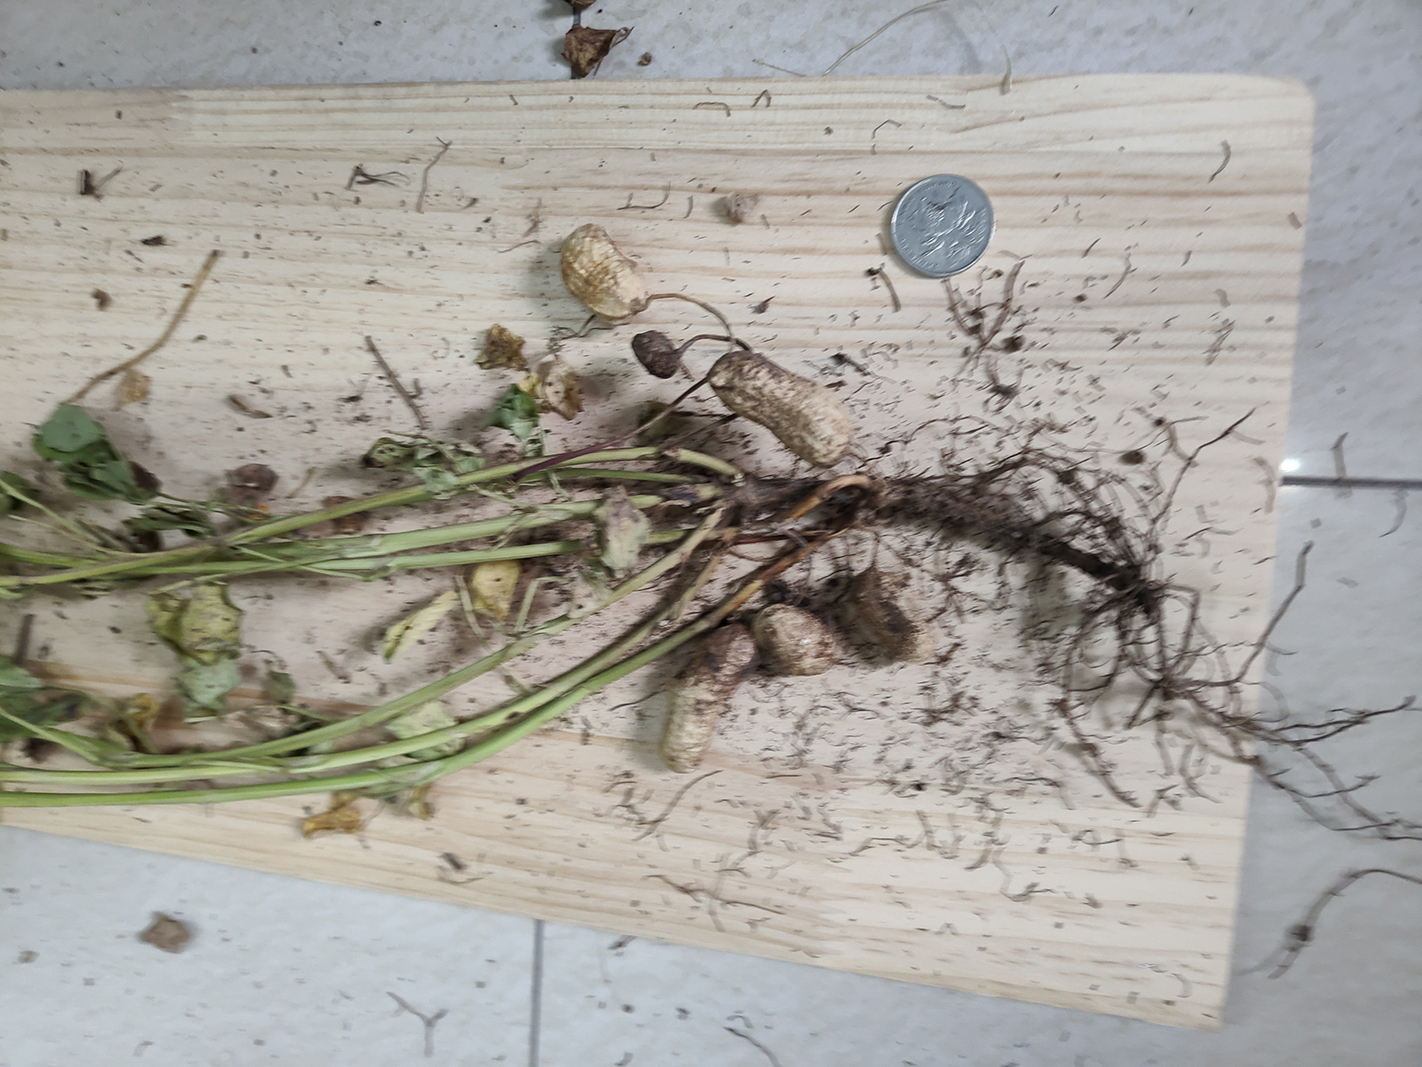h: (710, 350, 851, 464), (657, 618, 751, 773), (560, 226, 649, 318), (754, 602, 836, 674)
l: (857, 573, 932, 664), (634, 330, 678, 379)
